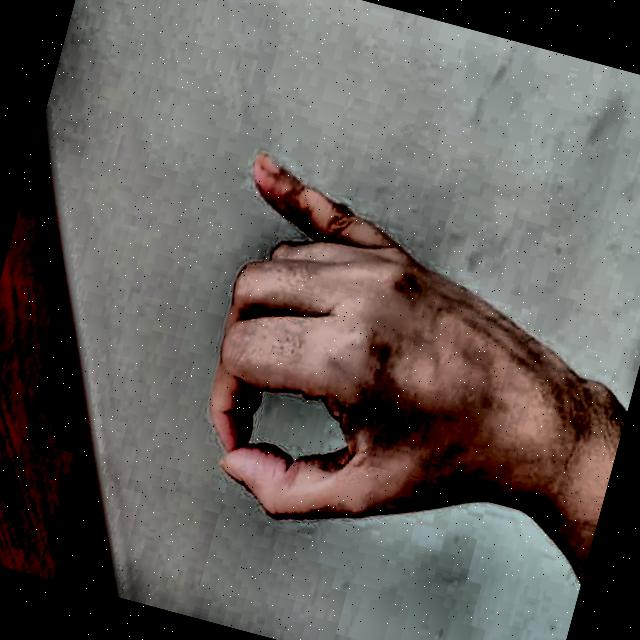Ou: (137, 105, 614, 598)
